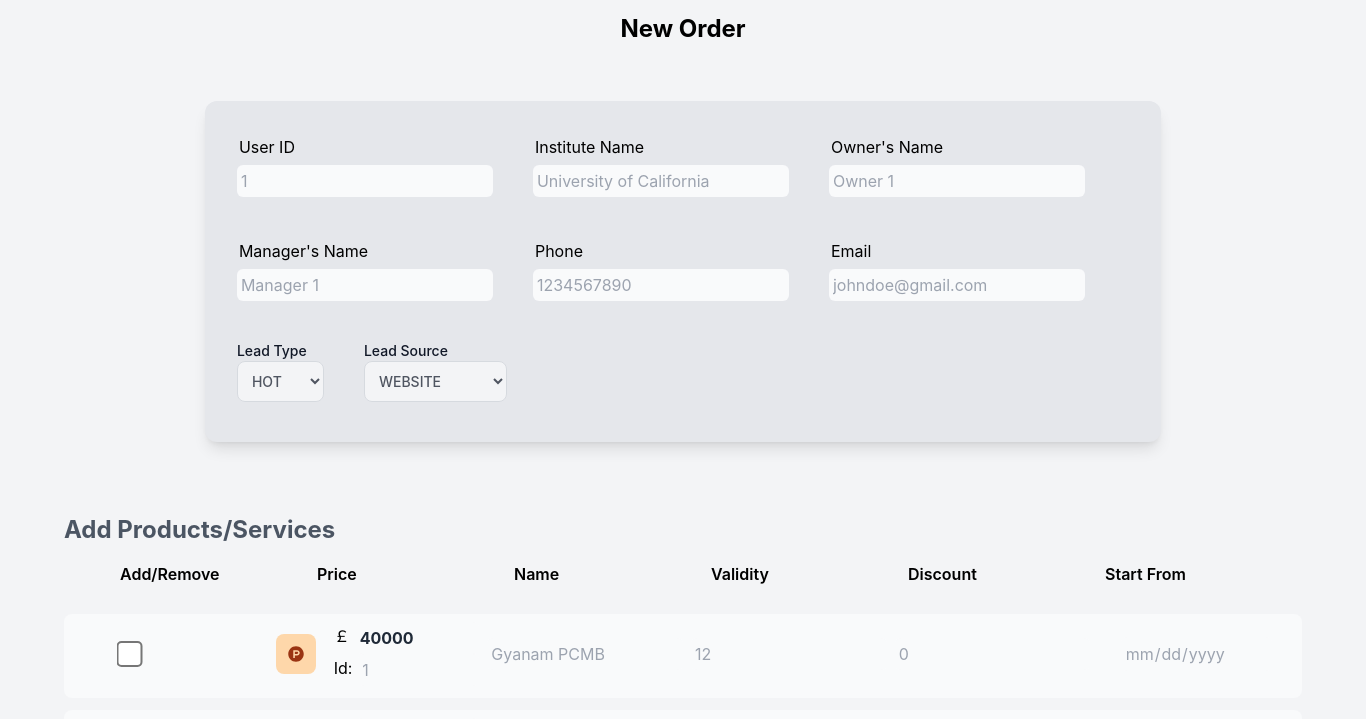
Test: NewOrder Component › should display Total Amount as total of selected products prices
Click the checkbox with alt text "Select-0" at point(130, 654), box left=117, top=622, right=143, bottom=686
(page scrolled)
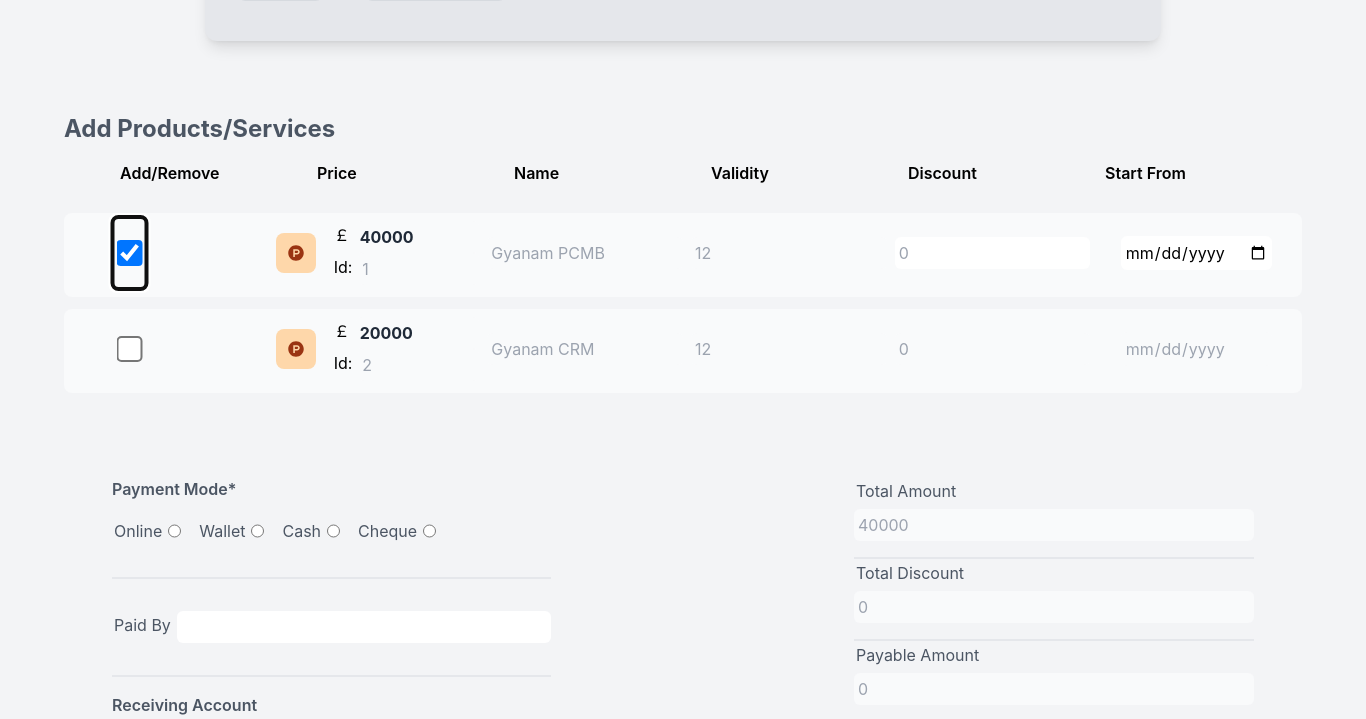
Expected: the number field labelled "Total Amount" holds "40000", left=854, top=509, right=1254, bottom=541
Click the checkbox with alt text "Select-1" at point(130, 349), box left=117, top=317, right=143, bottom=381
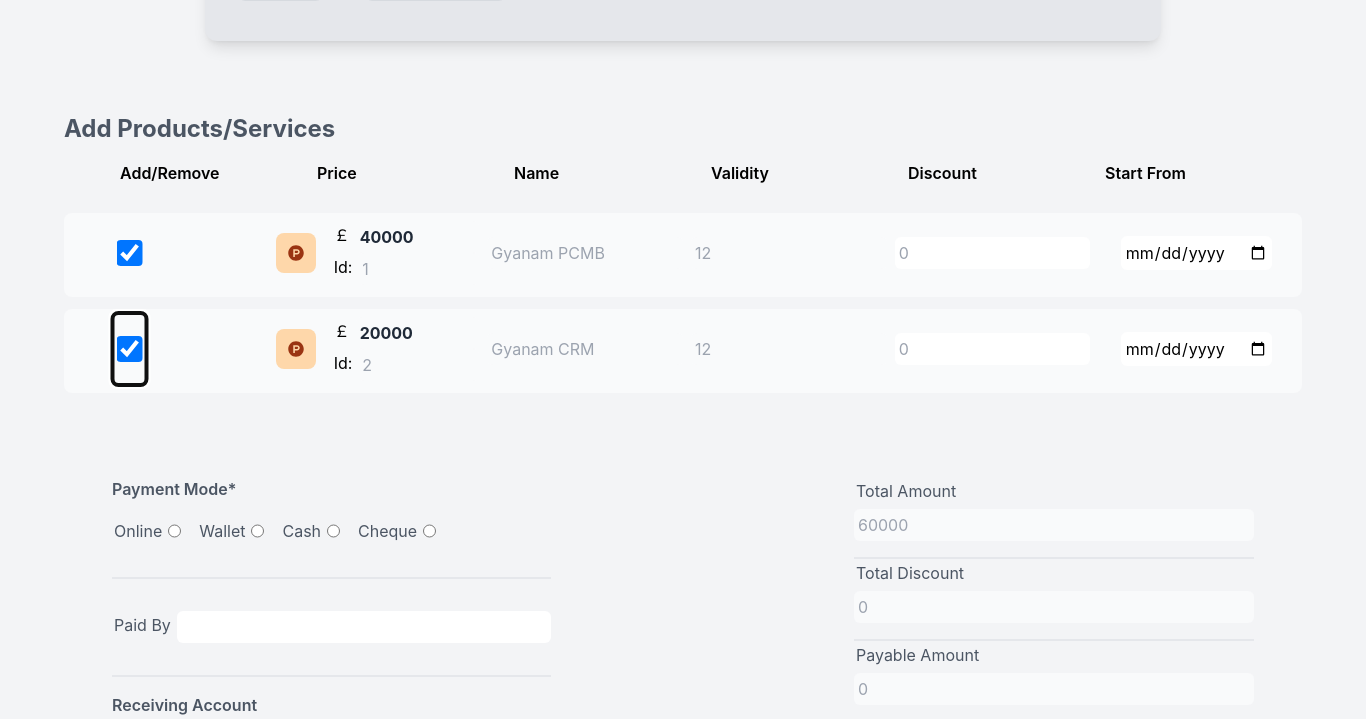
Expected: the number field labelled "Total Amount" holds "60000", left=854, top=509, right=1254, bottom=541
